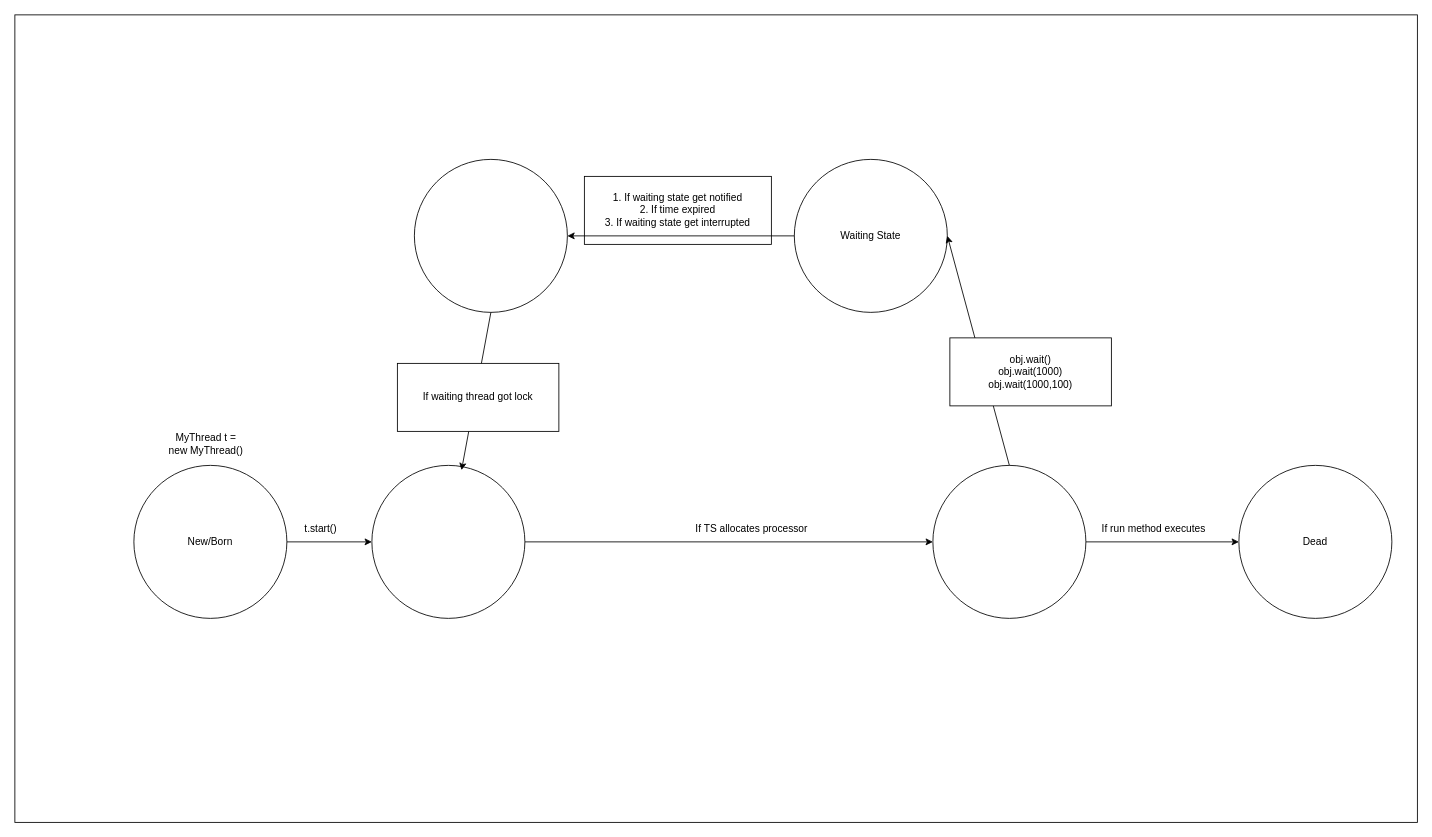
Some shapes in this 1432 by 837 pixel diagram are drawn without their labels. Here are the shapes that lost their labels. From the top down, the centre of each, then its label:
the point at 490,235: Another Waiting State TO GET THE LOCK
the point at 448,541: Ready/Runnable
the point at 1009,541: Running
